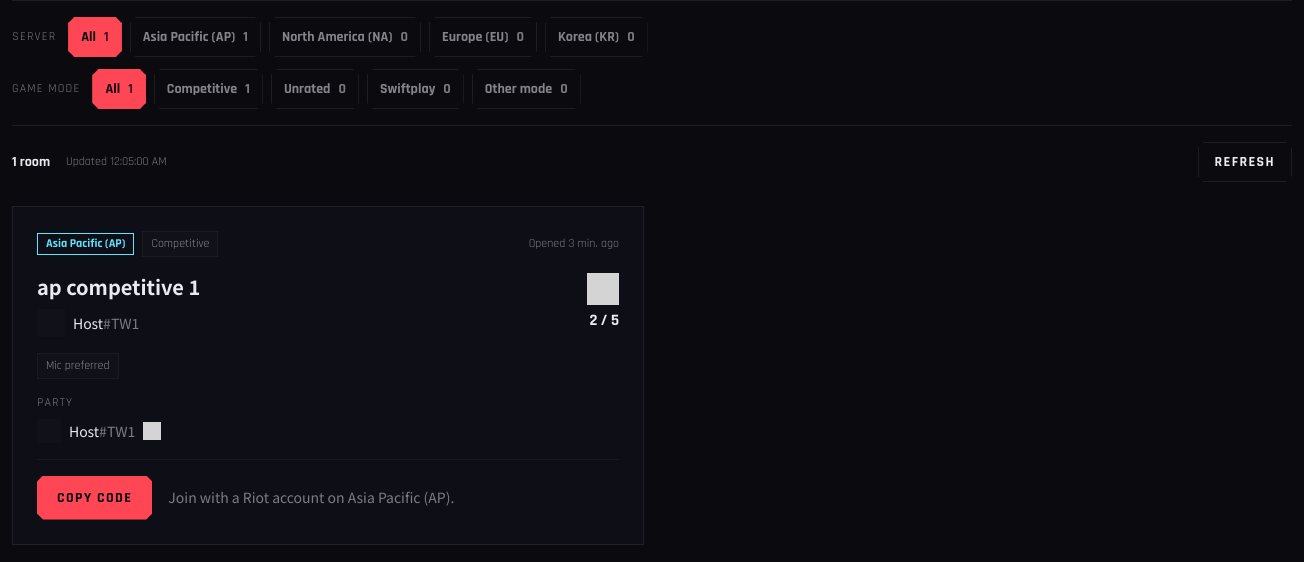
Test: copy code › explains a refusal: {"kind":"refused","reason":"full"}
Click the button "Copy code".
click(95, 498)  # box [37,476,152,520]
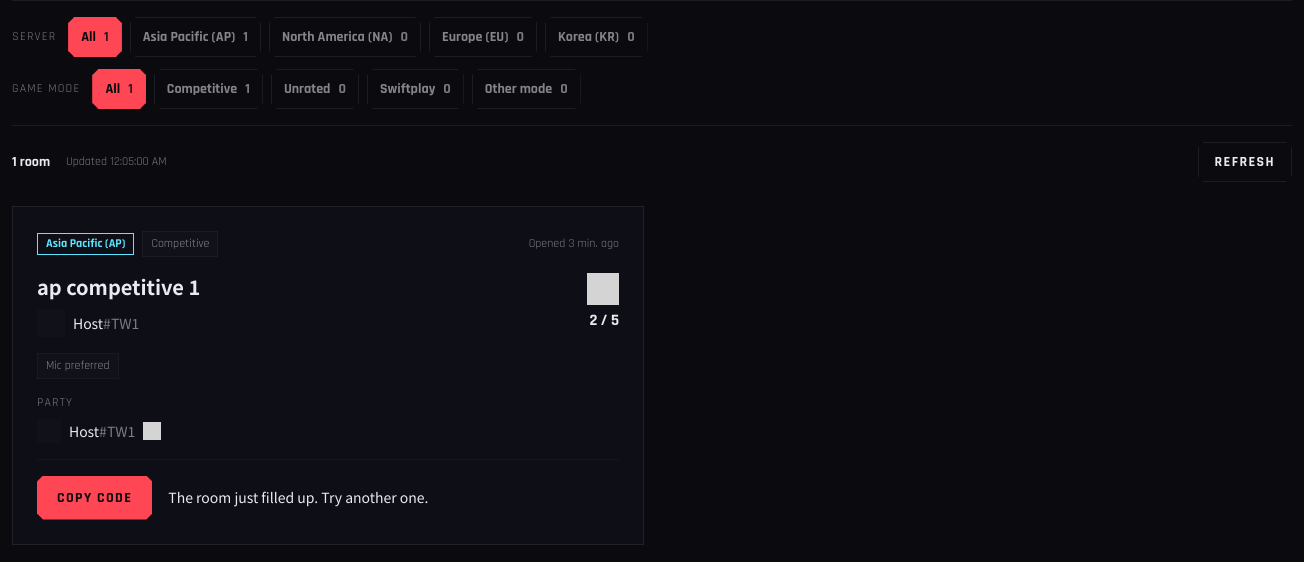
Check: the text "The room just filled up. Try another one." is shown, box [168,486,428,509]
